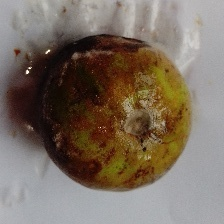guava: (26, 28, 181, 185)
